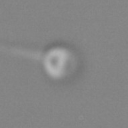normal: (1, 40, 42, 62)
